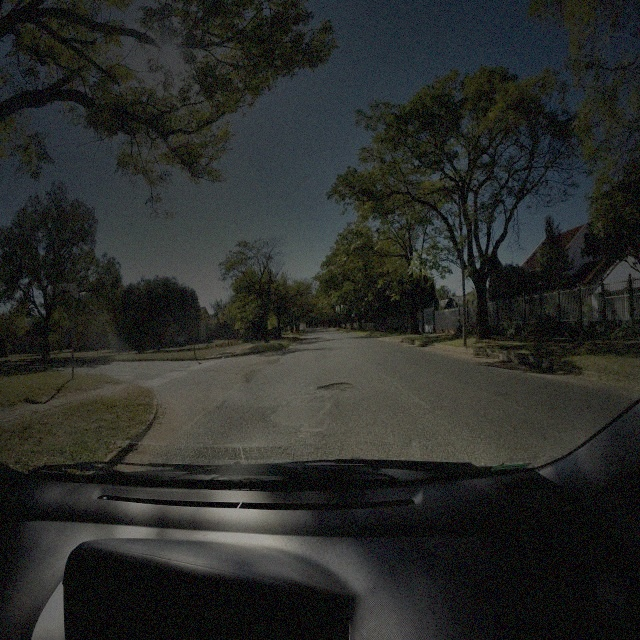pothole: (316, 381, 355, 394)
